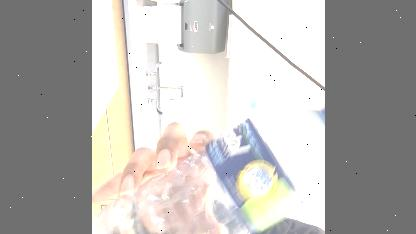Plastic Bottle: (91, 99, 325, 234)
